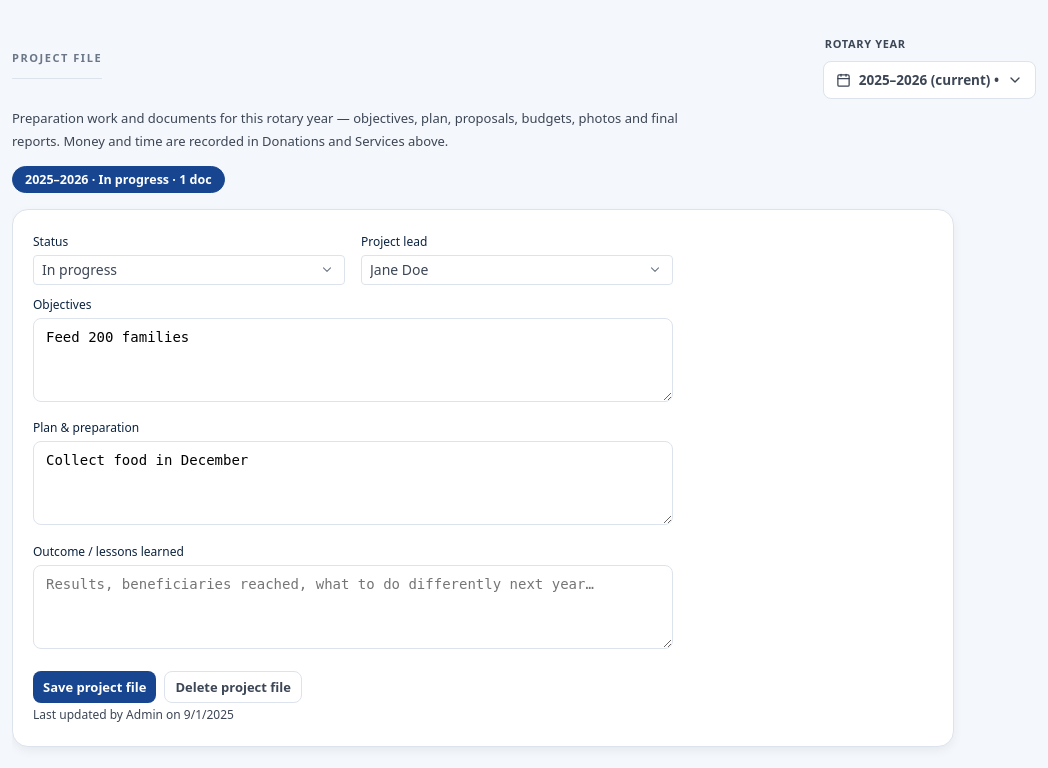
OrganisationProjectFile › lets a write user save the plan for the selected year
Replace the text in the text box labelled "Objectives" with "Feed 300 families". click: (353, 360)
box: top-left (33, 318), bottom-right (673, 402)
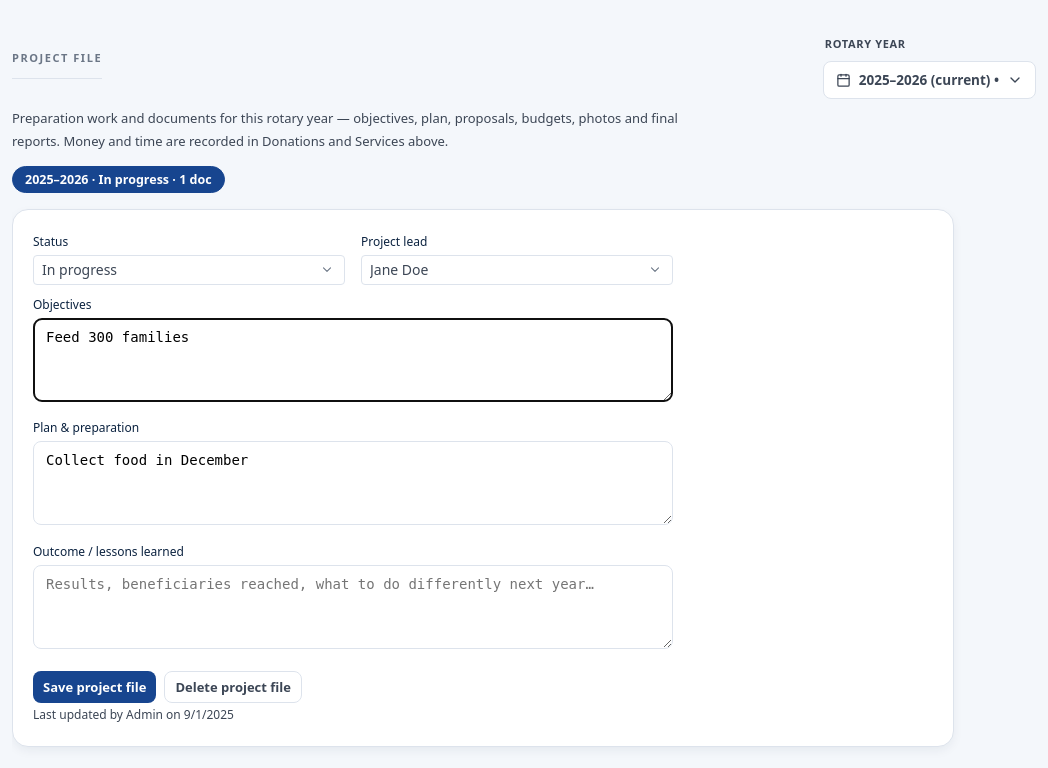
Select "Completed" in the dropdown labelled "Status". click: (189, 270)
box: top-left (33, 255), bottom-right (345, 285)
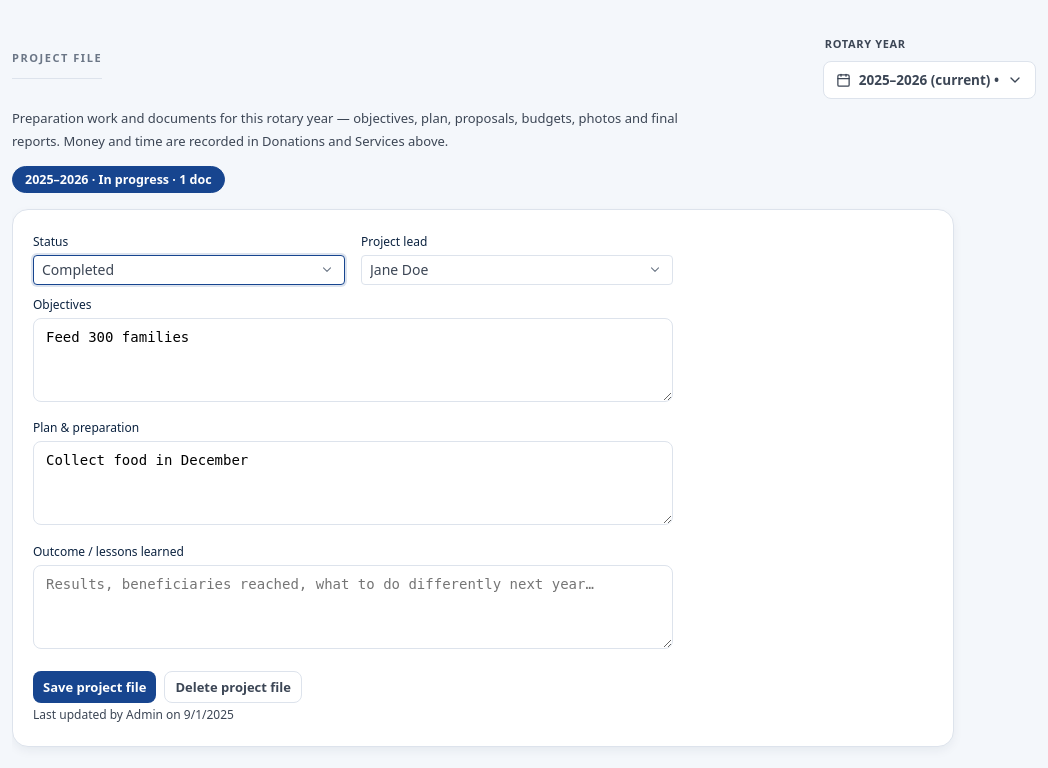
Click the button "Save project file". click: (95, 687)
box: top-left (33, 671), bottom-right (156, 703)
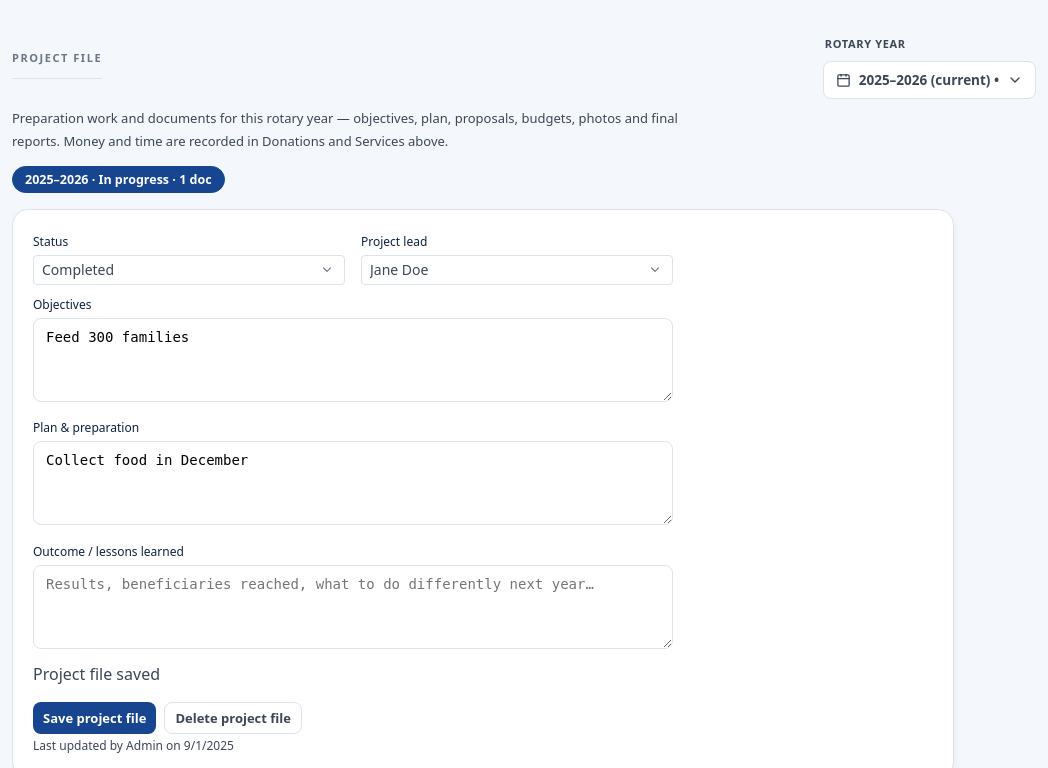
Result: the text "Project file saved" is shown at top-left (33, 663), bottom-right (160, 685)
